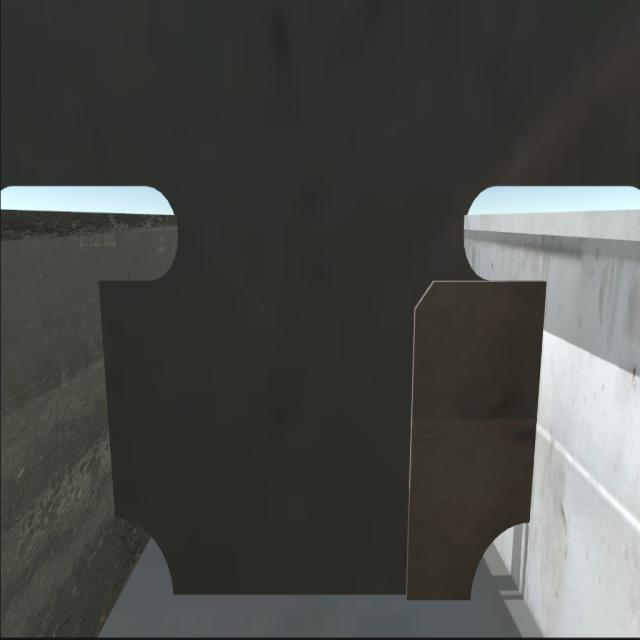fillet_hole: (468, 516, 533, 598)
fillet_yong_jeop_jang: (165, 582, 473, 606)
longi_yong_jeop_jang: (92, 278, 128, 526), (529, 270, 544, 540)
plate_CP03: (406, 276, 547, 606)
